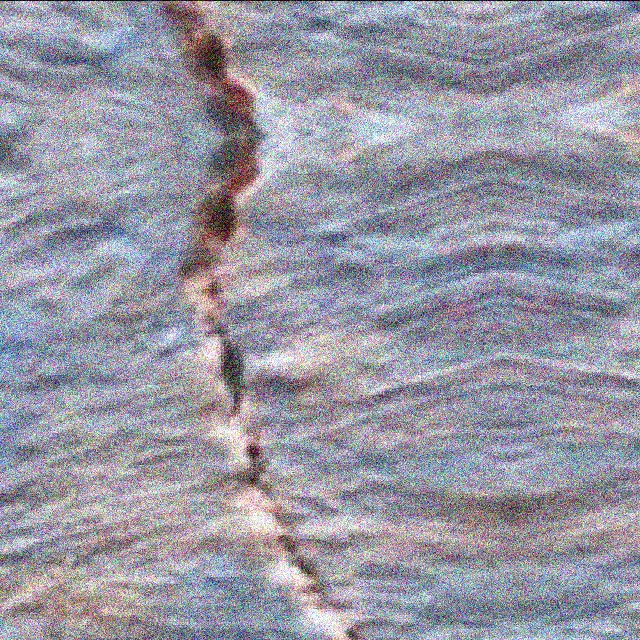SurfaceCrack: (128, 0, 406, 640)
